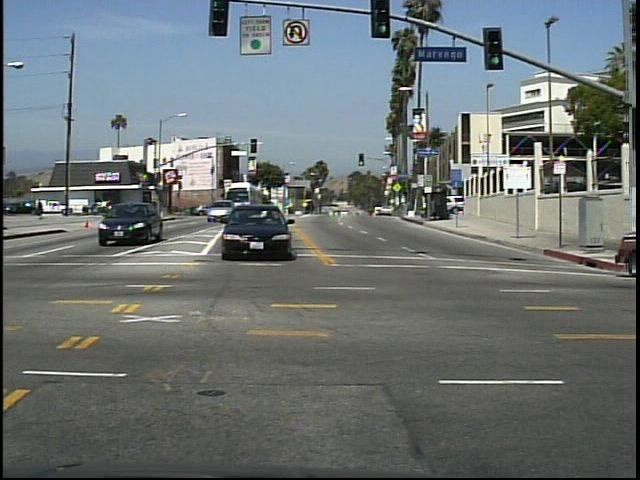person: (34, 194, 49, 223)
